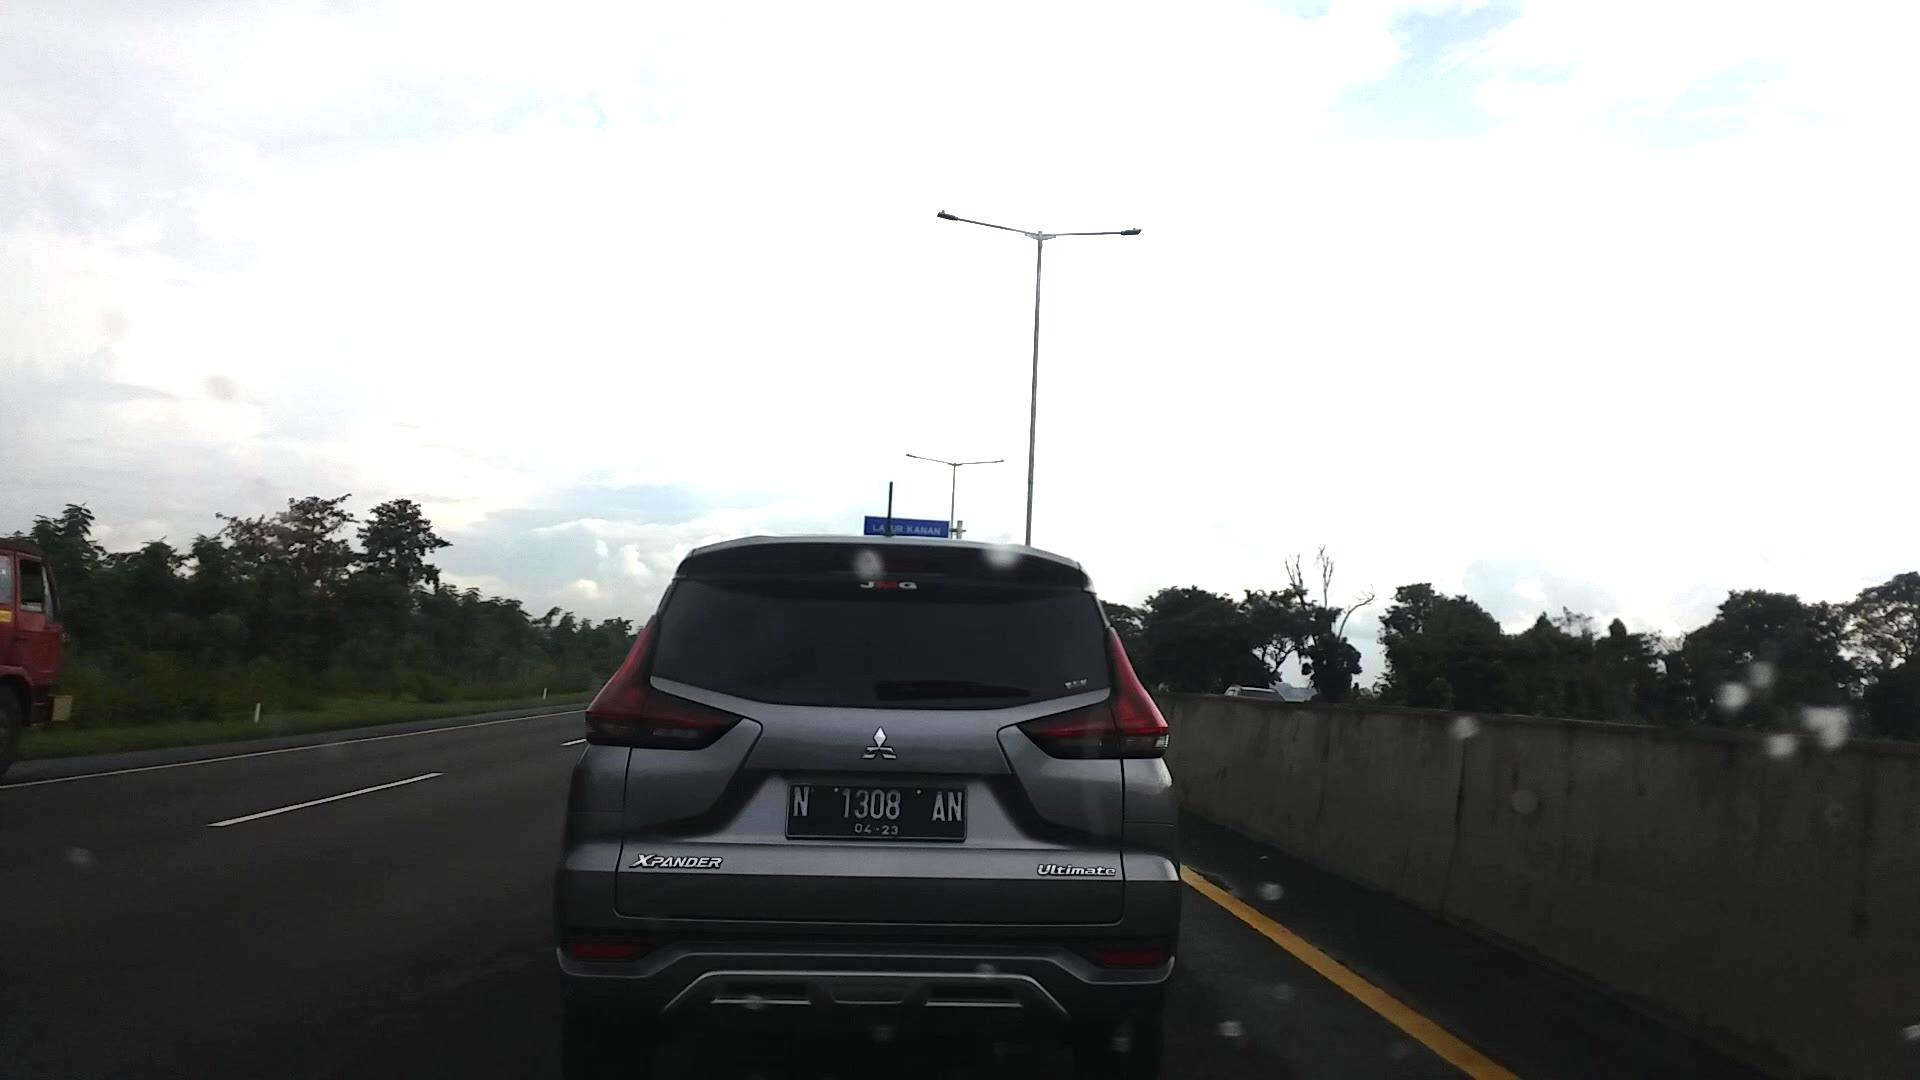plate_positive: (785, 783, 967, 843)
